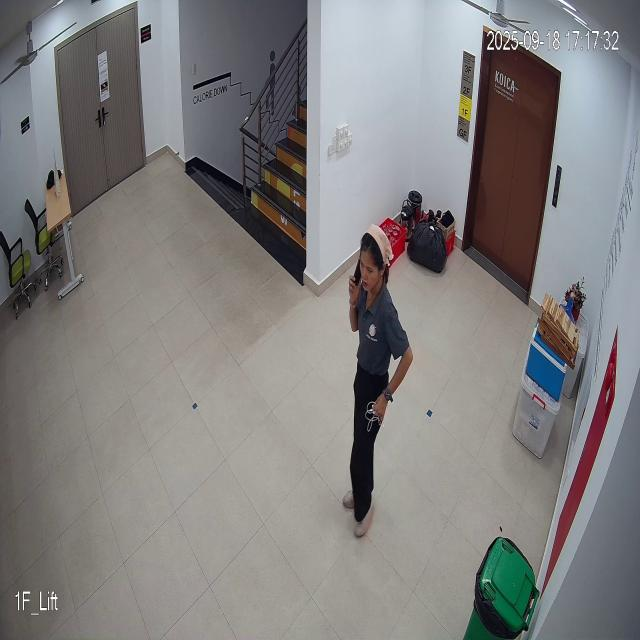face: (356, 220, 394, 298)
